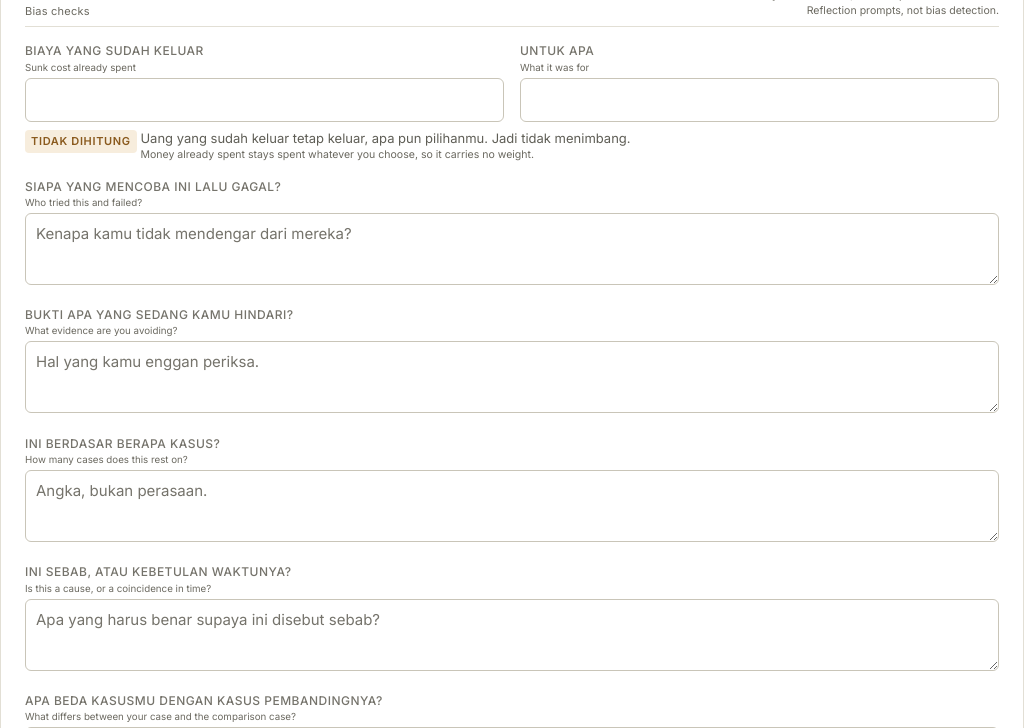
GatePanel › reports the gate as incomplete until every field is answered
The image size is (1024, 728).
Step 1. Type "5000000" into the number field labelled "Biaya yang sudah keluar Sunk cost already spent" → (264, 100), box [25,78,504,122]
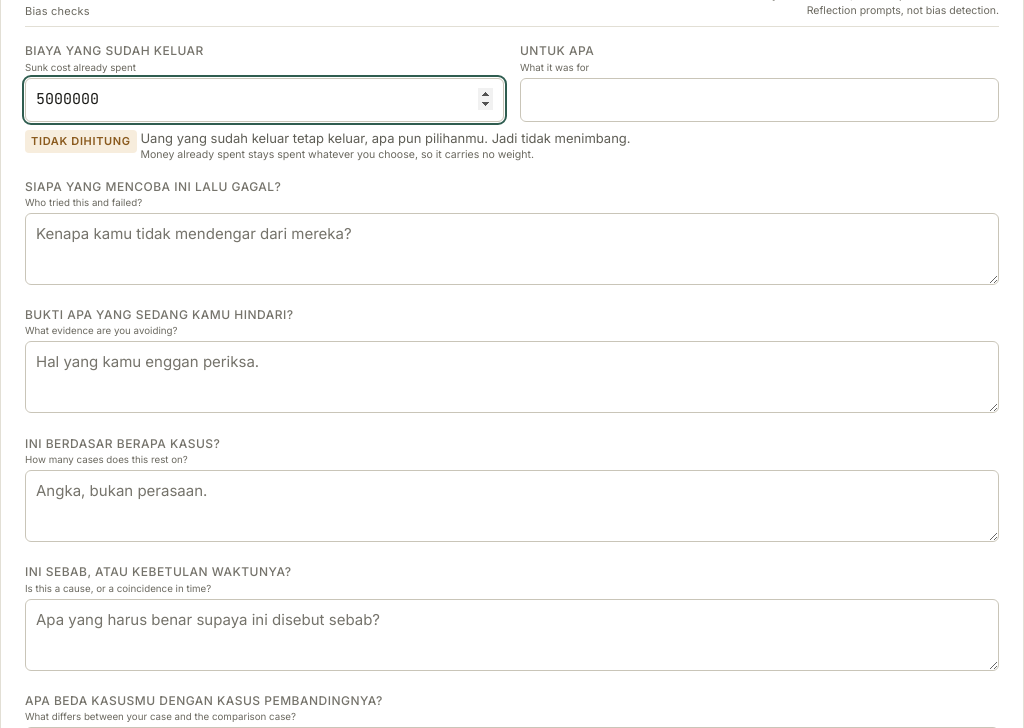
Step 2. Type "teman yang pindah lalu kembali" into the text box labelled "Siapa yang mencoba ini lalu gagal" → (512, 249), box [25,213,999,285]
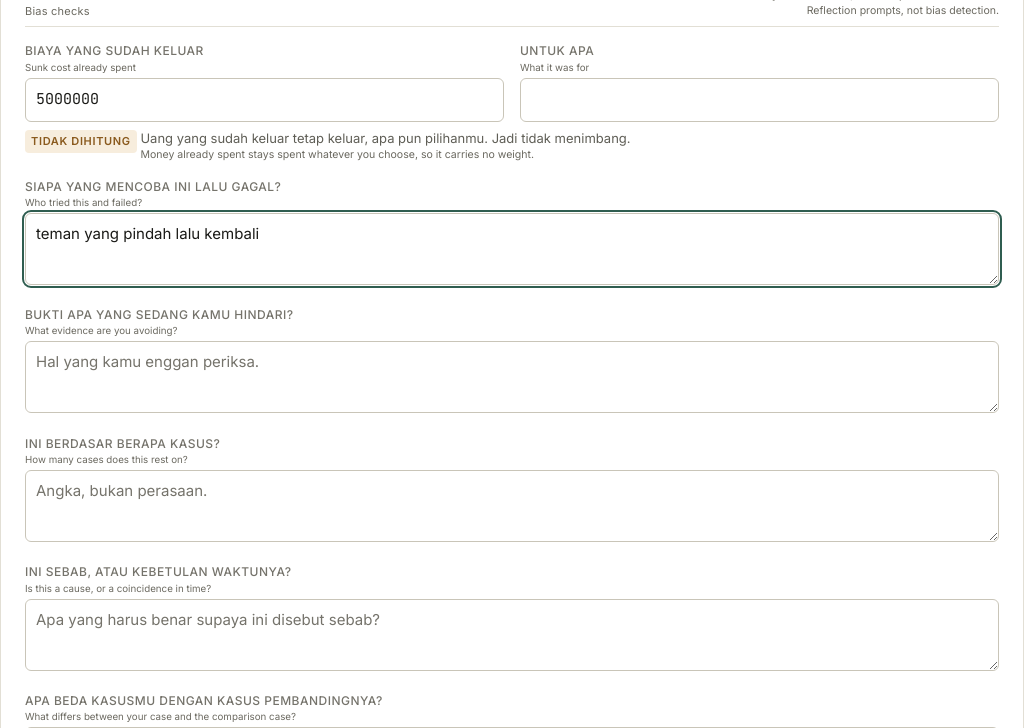
Step 3. Type "gaji aktual di sana" into the text box labelled "Bukti apa yang sedang kamu hindari" → (512, 378), box [25,342,999,414]
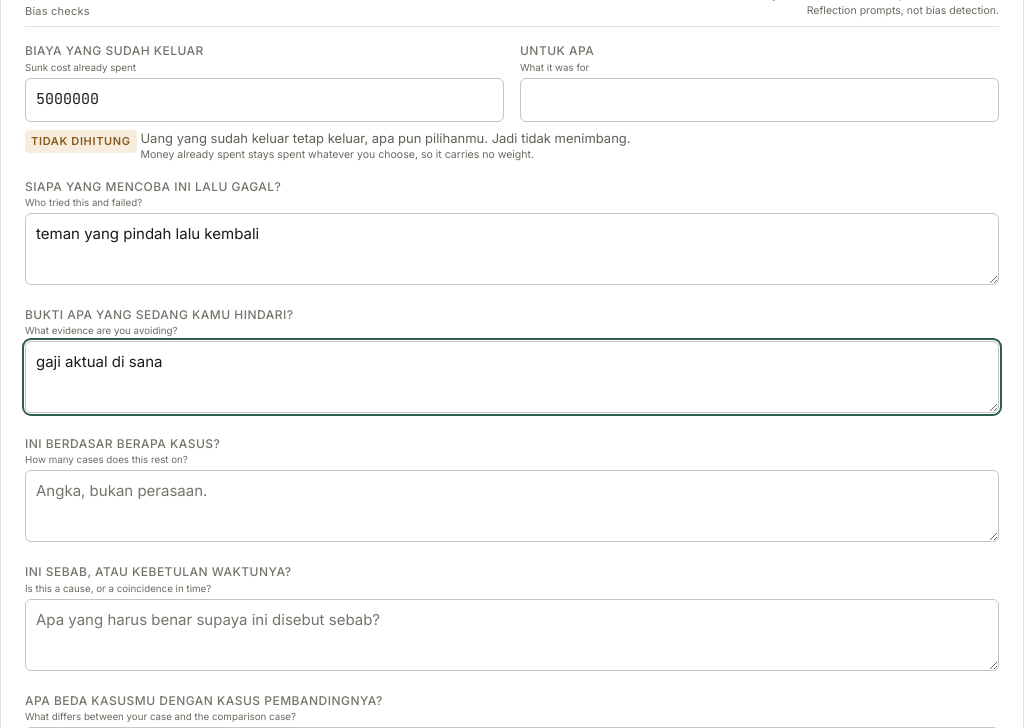
Step 4. Type "dua" into the text box labelled "Ini berdasar berapa kasus? How many cases does this rest on?" → (512, 506), box [25,470,999,542]
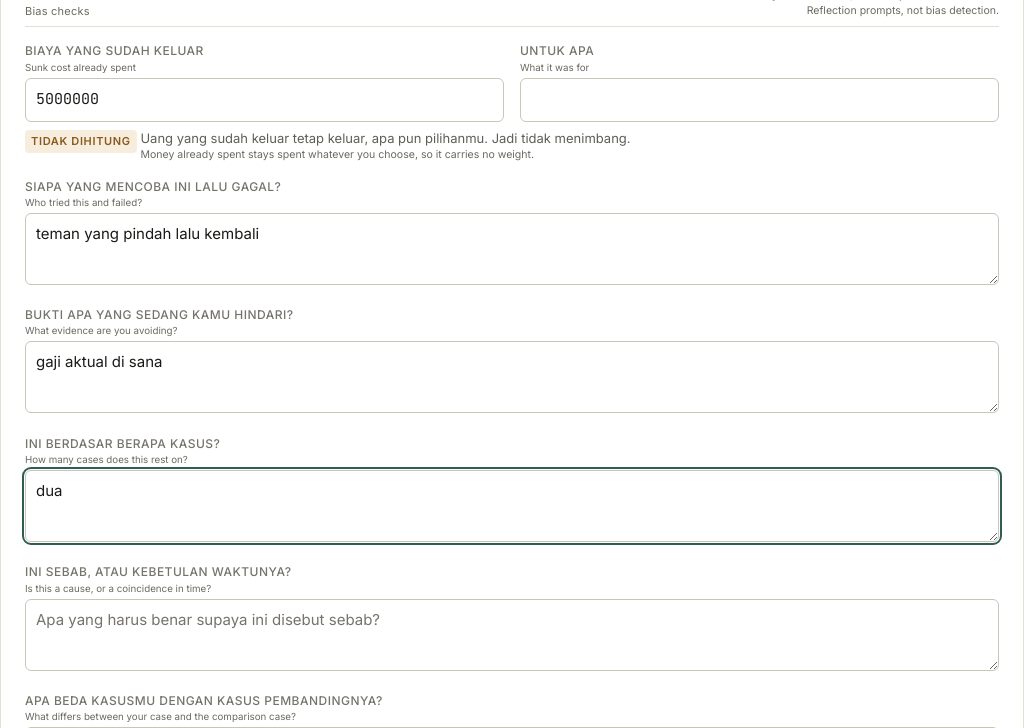
Step 5. Type "koinsiden" into the text box labelled "sebab, atau kebetulan waktunya" → (512, 635), box [25,599,999,671]
(page scrolled)
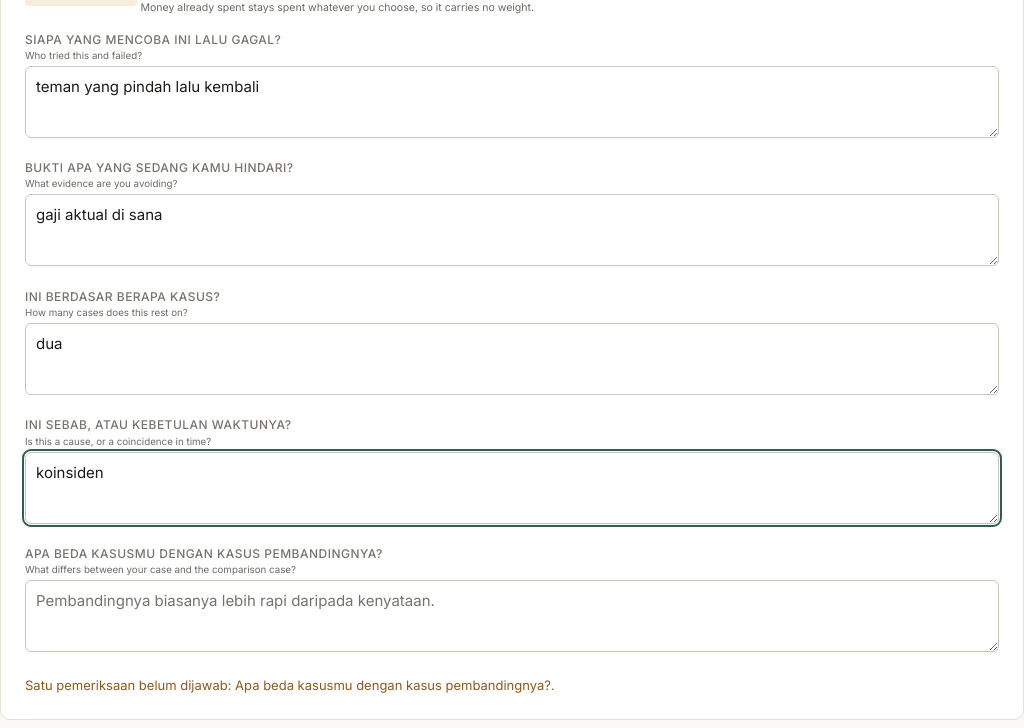
Step 6. Type "pengalaman" into the text box labelled "beda kasusmu dengan kasus pembandingnya" → (512, 616), box [25,580,999,652]
(page scrolled)
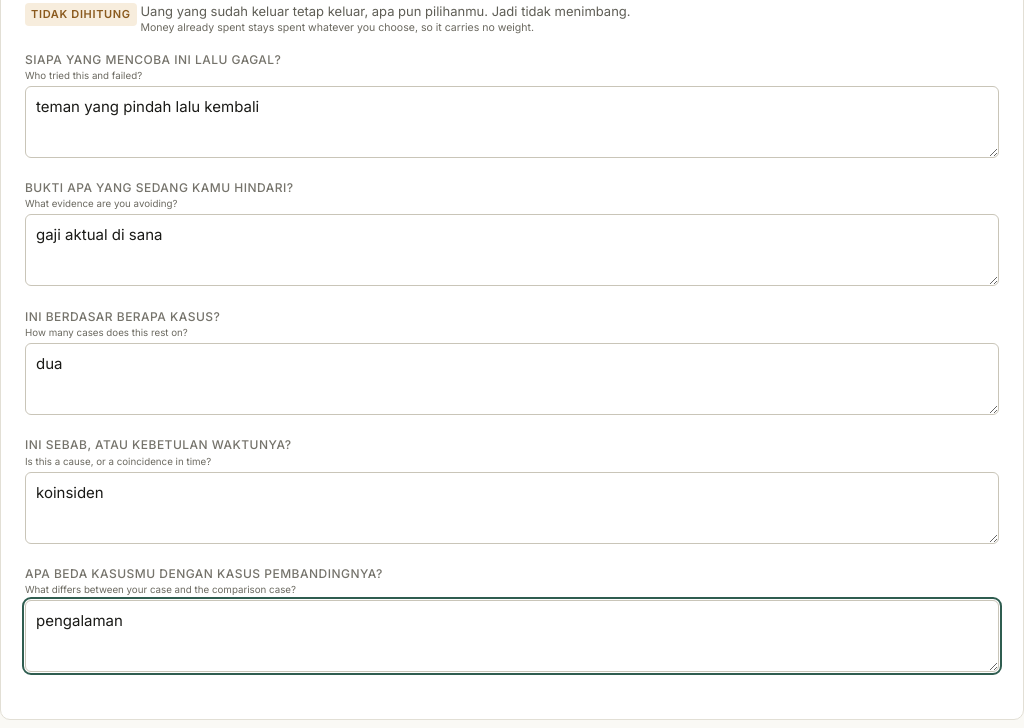
Now the text "belum dijawab" is gone
